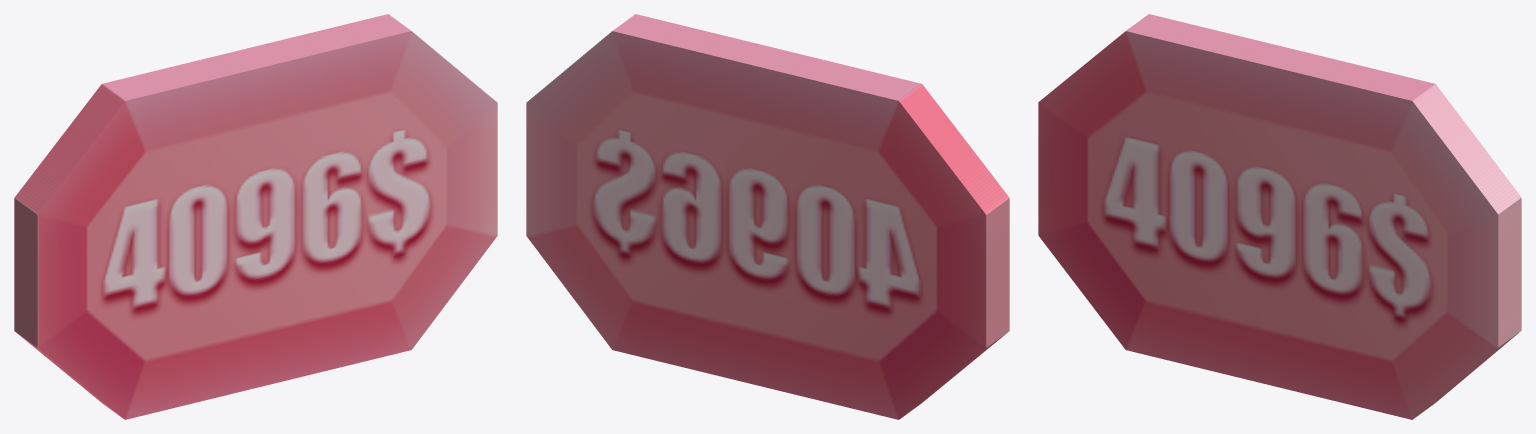
The model's file is 15_4096Dollars.fbx.
3 views of the same model, side by side, from view 1: azimuth 30°, elevation 25°; view 2: azimuth 150°, elevation 25°; view 3: azimuth 330°, elevation 25° (orthographic).
Visible parts, largest first — view 1: _4096Dollars; view 2: _4096Dollars; view 3: _4096Dollars.
Boxes of the visible parts, box(x1,y1,x2,y2) form: _4096Dollars: box(14, 14, 497, 419); _4096Dollars: box(526, 14, 1009, 419); _4096Dollars: box(1038, 14, 1521, 419).
Size of the model in its own units: 88.19 by 58.43 by 7.75.
1 material, 1 textured.
